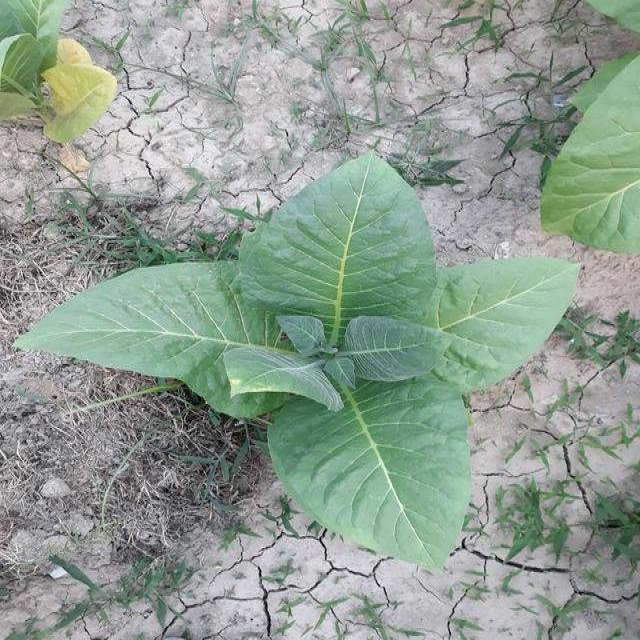crop: (15, 156, 578, 567)
